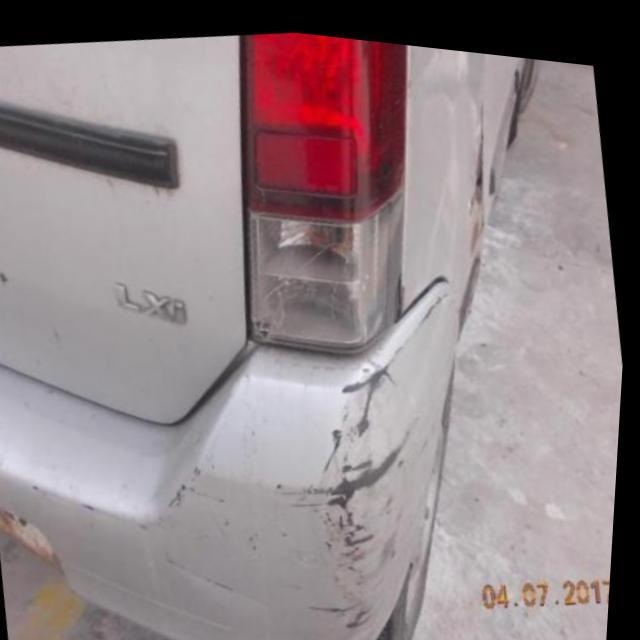crack: (279, 272, 458, 633)
dent: (468, 88, 491, 257)
scratch: (31, 463, 247, 533)
